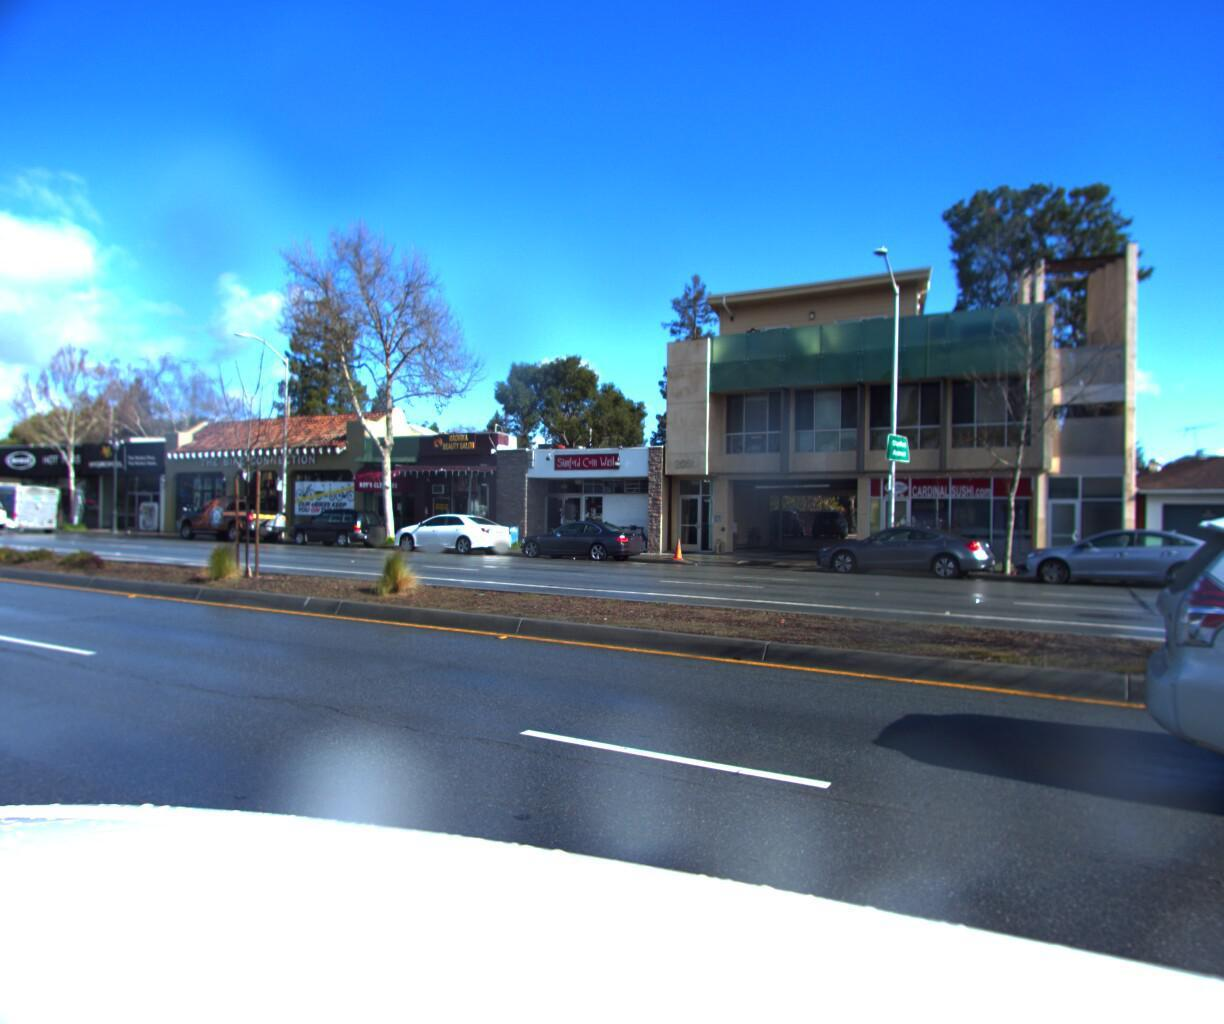car: (1138, 482, 1224, 1024), (1004, 523, 1224, 596), (802, 523, 1000, 583), (167, 496, 292, 551), (380, 514, 518, 562), (508, 520, 650, 563), (278, 509, 393, 553), (0, 499, 16, 540), (0, 492, 11, 537)
other_vehicle: (0, 486, 62, 540)
